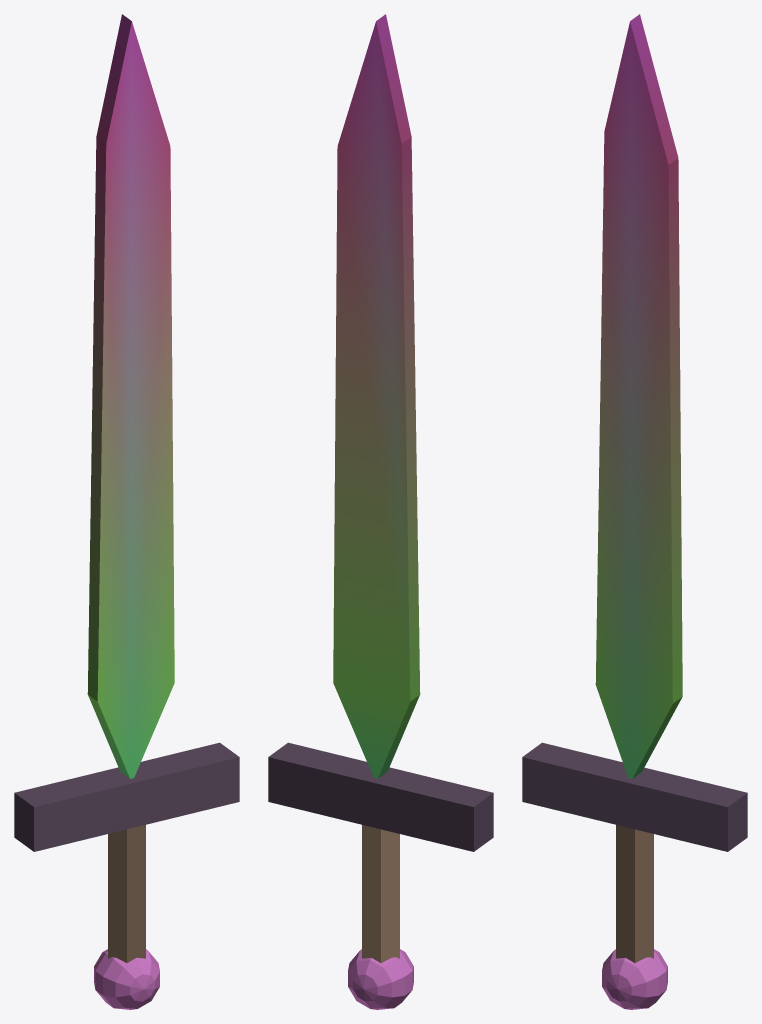
The model's file is BeetleHornSword.fbx.
3 views of the same model, side by side, from view 1: azimuth 30°, elevation 25°; view 2: azimuth 150°, elevation 25°; view 3: azimuth 330°, elevation 25° (orthographic).
Parts seen in each view (by area): view 1: Prop_BeetleHornSword; view 2: Prop_BeetleHornSword; view 3: Prop_BeetleHornSword.
Boxes of the visible parts, x1=… form: Prop_BeetleHornSword: x1=14, y1=14, x2=239, y2=1009; Prop_BeetleHornSword: x1=268, y1=14, x2=493, y2=1009; Prop_BeetleHornSword: x1=522, y1=14, x2=747, y2=1009.
Bounding box in the file's own units: 0.24 × 1.1 × 0.07.
